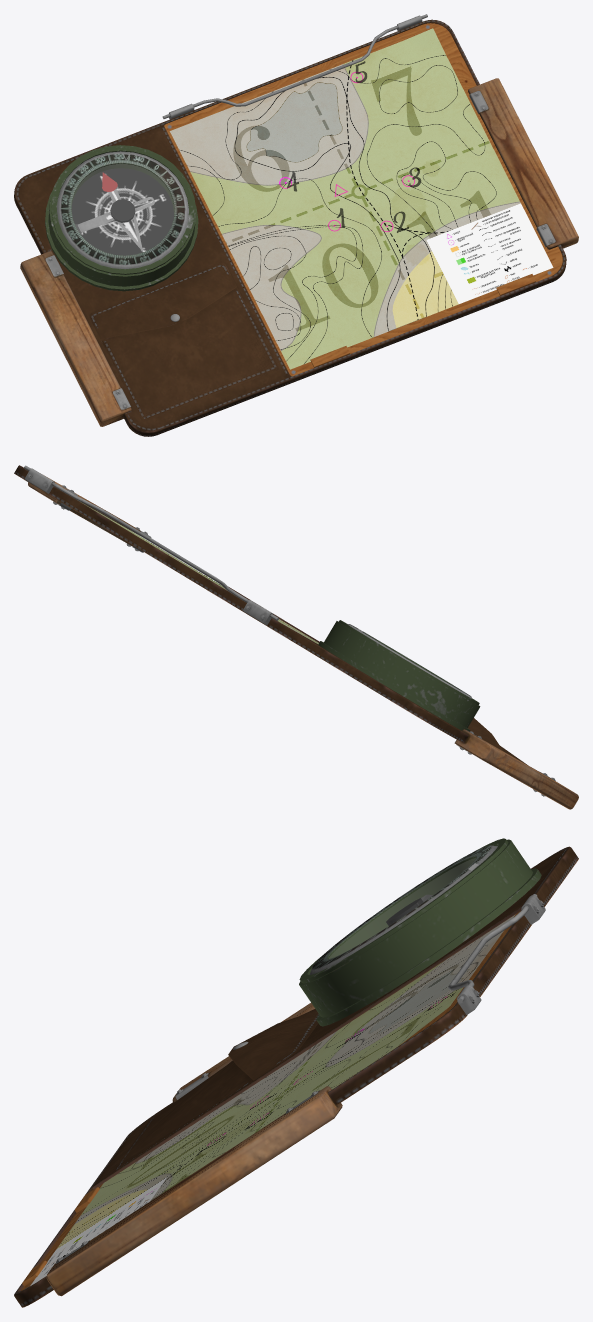
Rendered from phieuLuu-v1.glb.
3 renders of one model, top to bottom at view 1: azimuth 30°, elevation 25°; view 2: azimuth 150°, elevation 25°; view 3: azimuth 270°, elevation 25°, orthographic. The views are drawn at different scales.
Parts seen in each view (by area): view 1: map, Cube, glass; view 2: Cube, map; view 3: Cube, map, glass.
Boxes of the visible parts, x1,y1,x2,y2 form: map: [169, 28, 553, 369]; Cube: [14, 14, 578, 436]; glass: [72, 164, 174, 255]; Cube: [14, 465, 578, 809]; map: [81, 502, 318, 644]; Cube: [14, 838, 578, 1307]; map: [30, 914, 515, 1285]; glass: [329, 858, 475, 958].
Size of the model in its own units: 3.33 by 1.9 by 2.11.
3 materials, 2 textured.
